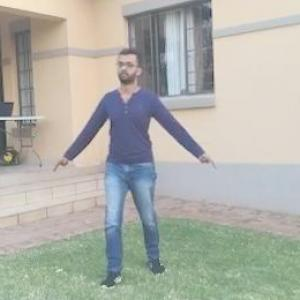land: (62, 57, 209, 271)
